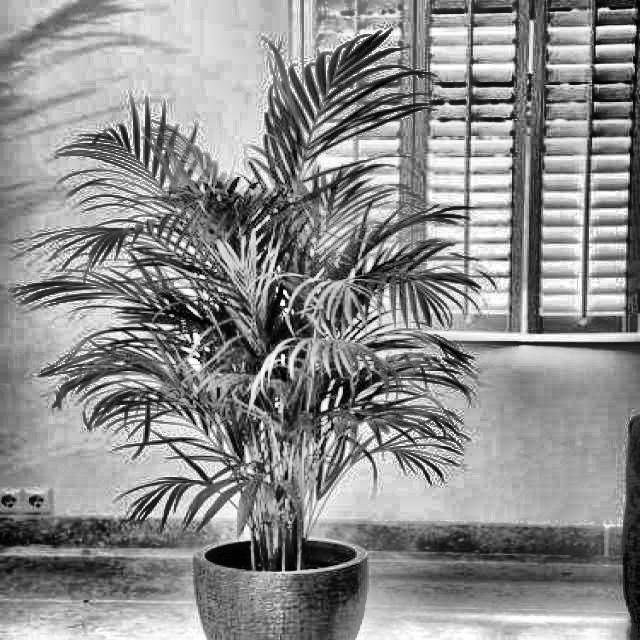plants: (49, 52, 510, 638)
